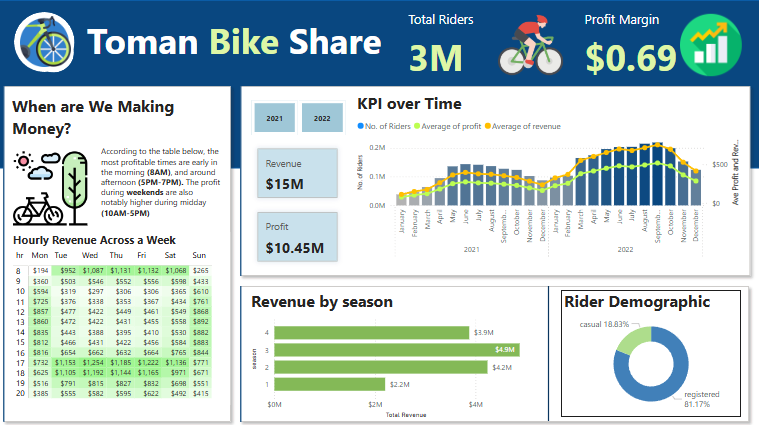

What the dashboard file says about the page in this screenshot:
{"tool":"powerbi","page":{"name":"Page 1","canvas":[1280,720],"ordinal":0},"visuals":[{"type":"shape","box":[10.1,0,1269.9,280.5],"z":0},{"type":"cardVisual","fields":{"Data":["Sum(Query1.riders)"]},"box":[395.6,126.7,884.4,350],"z":1000},{"type":"lineClusteredColumnComboChart","title":"KPI over Time","fields":{"Category":["Query1.dte.Variation.Date Hierarchy.Year","Query1.dte.Variation.Date Hierarchy.Month","Query1.dte.Variation.Date Hierarchy.Day"],"Y":["Sum(Query1.riders)"],"Y2":["Avg(Query1.profit)","Avg(Query1.revenue)"]},"box":[601.7,153.3,650,298.3],"z":2000},{"type":"cardVisual","fields":{"Data":["Sum(Query1.riders)"]},"box":[0,126.7,413.3,593.3],"z":3000},{"type":"pivotTable","title":"Hourly Revenue Across a Week","fields":{"Values":["Avg(Query1.revenue)"],"Rows":["Query1.hr"],"Columns":["Query1.WeekdayName"]},"box":[28.3,386.7,366.7,288.3],"z":4000},{"type":"cardVisual","fields":{"Data":["Sum(Query1.riders)"]},"box":[395.7,460,882.9,260],"z":5000},{"type":"clusteredBarChart","fields":{"Category":["Query1.season"],"Y":["Sum(Query1.revenue)"]},"box":[425,483.3,500,218.3],"z":6000},{"type":"donutChart","title":"Rider Demographic","fields":{"Category":["Query1.rider_type"],"Y":["Sum(Query1.riders)"]},"box":[947.1,484,300.2,210.6],"z":7000},{"type":"shape","box":[911.7,476.7,28.3,225],"z":8000},{"type":"cardVisual","title":"KPI over Time","fields":{"Data":["Sum(Query1.revenue)","Sum(Query1.profit)"]},"box":[425,231.7,165,220],"z":9000},{"type":"textbox","box":[27.1,152.9,354.3,88.6],"z":10000},{"type":"shape","box":[34.8,20.4,100.8,100],"z":11000},{"type":"shape","box":[67.5,53.1,68.3,67.5],"z":12000},{"type":"image","box":[39.4,21.4,95,95.6],"z":13000},{"type":"textbox","box":[151.7,21.7,523.3,106.7],"z":14000},{"type":"image","box":[28.6,240,134.3,147.1],"z":15000},{"type":"textbox","box":[174.3,238.6,208.6,148.6],"z":16000},{"type":"cardVisual","fields":{"Data":["Sum(Query1.riders)","Query1.Profit Margin"]},"box":[675,0,590,138.3],"z":17000},{"type":"slicer","title":"Year","fields":{"Values":["Query1.dte.Variation.Date Hierarchy.Year"]},"box":[405,160,206.7,71.7],"z":18000}]}

Visuals, with their boxes in screenshot pixels (x1, y1, x2, y2), scaled from the page's 1280x720 canvas onto the 759x425 screenshot:
shape: 6/0/758/166
cardVisual - Sum(Query1.riders): 235/75/758/281
"KPI over Time" lineClusteredColumnComboChart: 357/90/742/267
cardVisual - Sum(Query1.riders): 0/75/245/424
"Hourly Revenue Across a Week" pivotTable: 17/228/234/398
cardVisual - Sum(Query1.riders): 235/272/758/424
clusteredBarChart - Query1.season x Sum(Query1.revenue): 252/285/548/414
"Rider Demographic" donutChart: 562/286/740/410
shape: 541/281/557/414
"KPI over Time" cardVisual: 252/137/350/267
textbox: 16/90/226/143
shape: 21/12/80/71
shape: 40/31/81/71
image: 23/13/80/69
textbox: 90/13/400/76
image: 17/142/97/228
textbox: 103/141/227/229
cardVisual - Sum(Query1.riders) x Query1.Profit Margin: 400/0/750/82
"Year" slicer: 240/94/363/137
